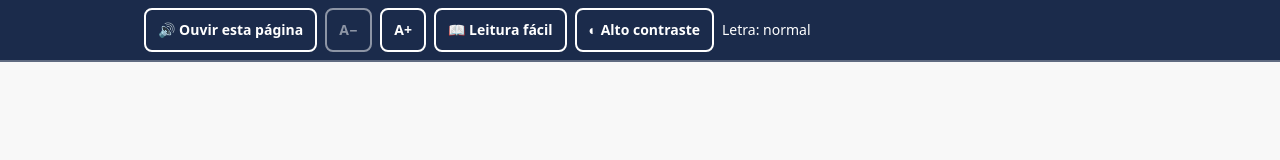
Scenario: BarraAcessibilidade › ativa e desativa o modo de leitura facil
The width and height of the screenshot is (1280, 160).
Click the button "📖 Leitura fácil".
click(500, 30)  # box x1=434 y1=8 x2=567 y2=52
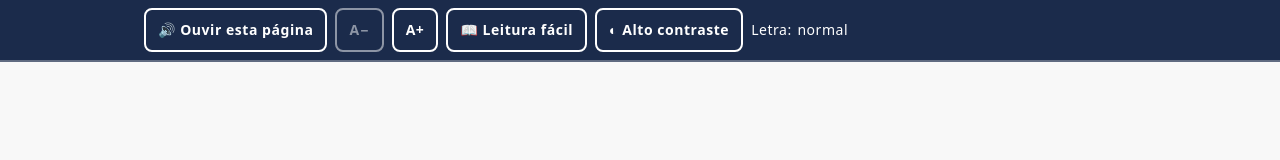
expect the button "📖 Leitura fácil" is pressed: met
Click the button "📖 Leitura fácil".
click(517, 30)  # box x1=446 y1=8 x2=587 y2=52
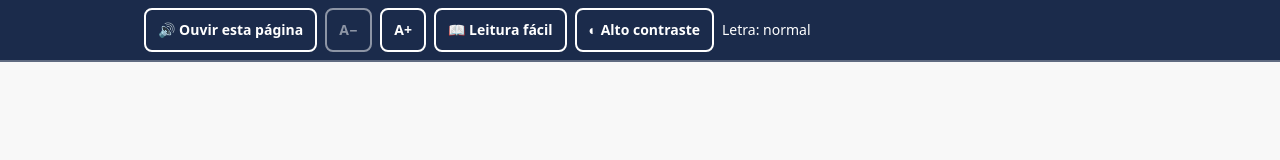
expect the button "📖 Leitura fácil" is not pressed: met, box x1=434 y1=8 x2=567 y2=52
